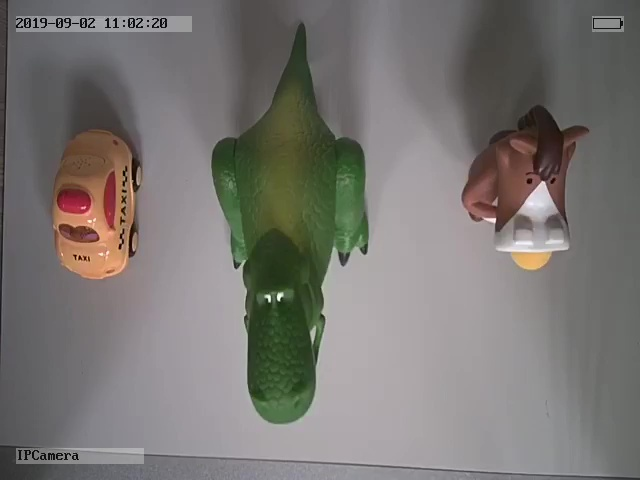car: (50, 125, 144, 282)
horse: (460, 103, 590, 272)
rex: (210, 18, 371, 425)
